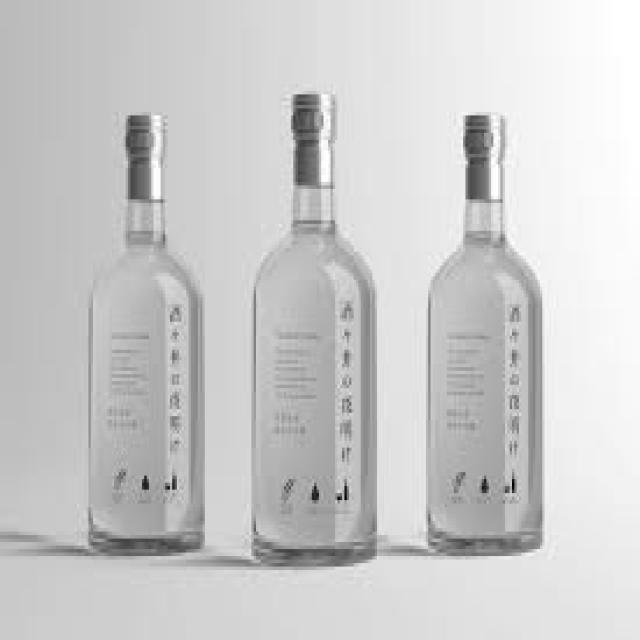glass: (251, 91, 375, 559), (84, 115, 205, 556), (423, 112, 540, 552)
metal: (289, 91, 333, 182), (121, 109, 163, 193), (461, 112, 500, 192)
